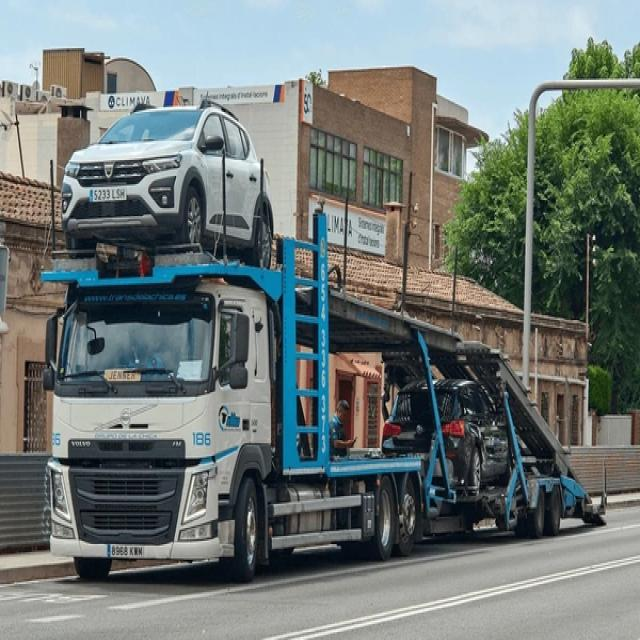dacia: (103, 162, 114, 178)
volvo: (118, 408, 134, 426)
